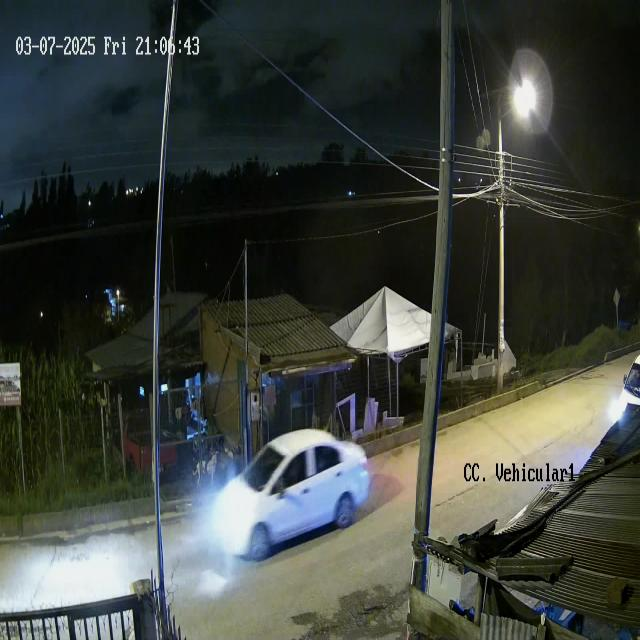SED: (209, 427, 369, 560)
